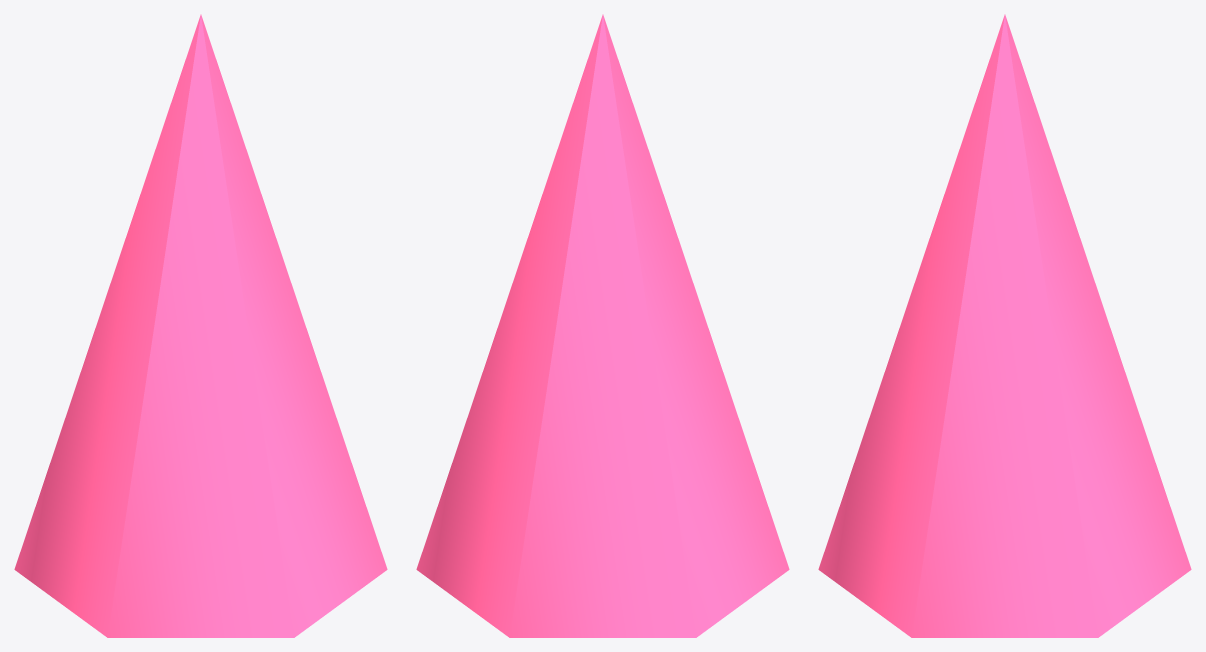
File: vampire.glb
3 views of the same model, side by side, from view 1: azimuth 30°, elevation 25°; view 2: azimuth 150°, elevation 25°; view 3: azimuth 270°, elevation 25° (orthographic).
Parts seen in each view (by area): view 1: vampire; view 2: vampire; view 3: vampire.
Boxes of the visible parts, bbox=[...] form: vampire: bbox=[14, 14, 387, 637]; vampire: bbox=[416, 14, 789, 637]; vampire: bbox=[818, 14, 1191, 637].
Bounding box in the file's own units: 0.6062 × 1.15 × 0.7.
